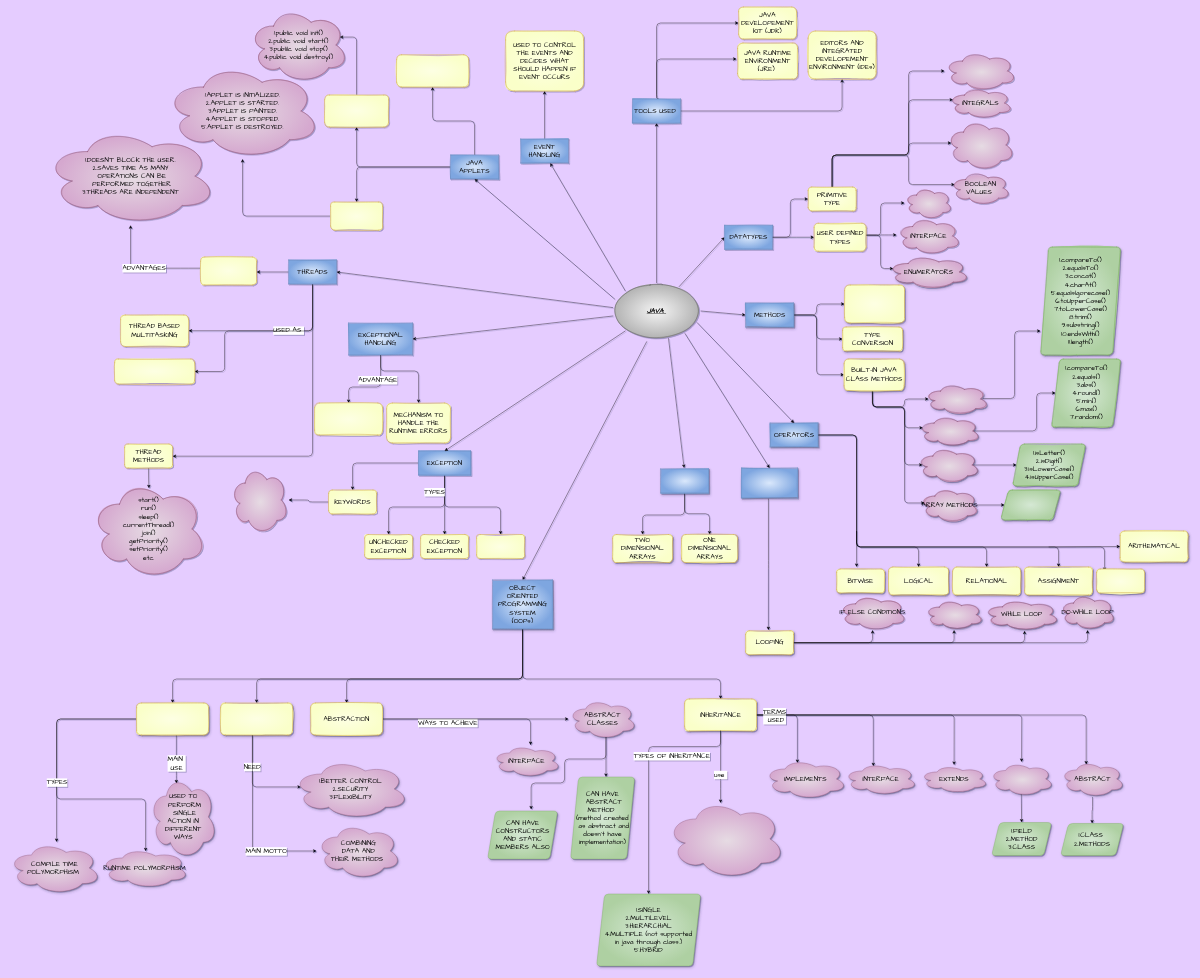
The diagram is 1200 pixels wide and 978 high, and some of its shapes have lost their labels. The shapes that lost their labels are listed below. From the top down, each one's centre as x and y in pixels, then its label:
At point (432, 70): "CLASSES MERGED INTO HTML AND RUN IN BROWSER".
At point (980, 71): "CHARACTERS".
At point (356, 111): "LIFE CYCLE METHODS OF APPLET".
At point (980, 145): "FLOATING DECIMAL NUMBERS".
At point (356, 216): "LIFECYCLE OF APPLET".
At point (928, 203): "CLASSES".
At point (228, 271): "MULTI THREADING".
At point (875, 304): "PASSING AND RETURNING ARGUMENTS".
At point (154, 371): "SYNCHRONIZATION".
At point (348, 419): "TO MAINTAIN THE FLOW OF APPLICATION".
At point (957, 399): "STRING METHODS".
At point (950, 431): "NUMBER METHODS".
At point (685, 481): "ARRAYS".
At point (770, 483): "DECISION MAKING CONSTRUCTS".
At point (948, 465): "CHARACTER METHODS".
At point (259, 500): "1.try 2.catch 3.finally 4.throw 5.throws".
At point (1031, 505): "1.length() 2.toString() 3.contains()".
At point (500, 546): "ERROR".
At point (1121, 581): "UNARY".
At point (954, 615): "FOR LOOP".
At point (173, 719): "POLYMORPHISM".
At point (257, 719): "ENCAPSULATION".
At point (1022, 779): "FINAL".
At point (726, 839): "FOR METHOD OVERRIDING (so that runtime polymorphism can be achieved)".
